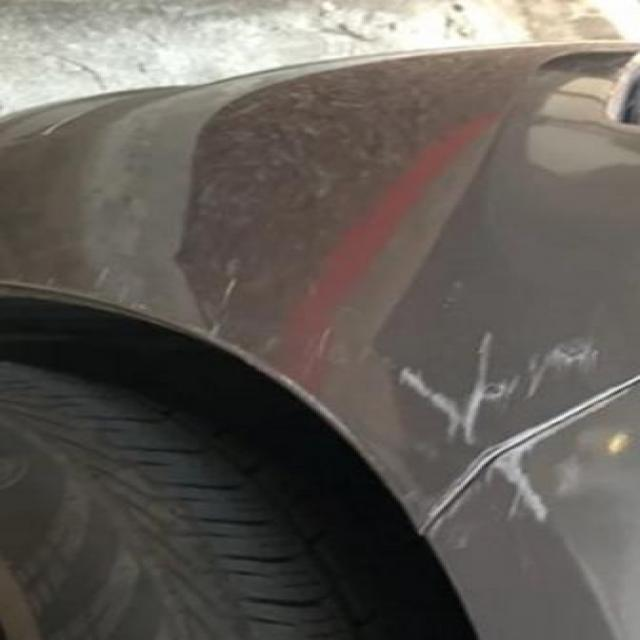scratch: (373, 316, 640, 560)
